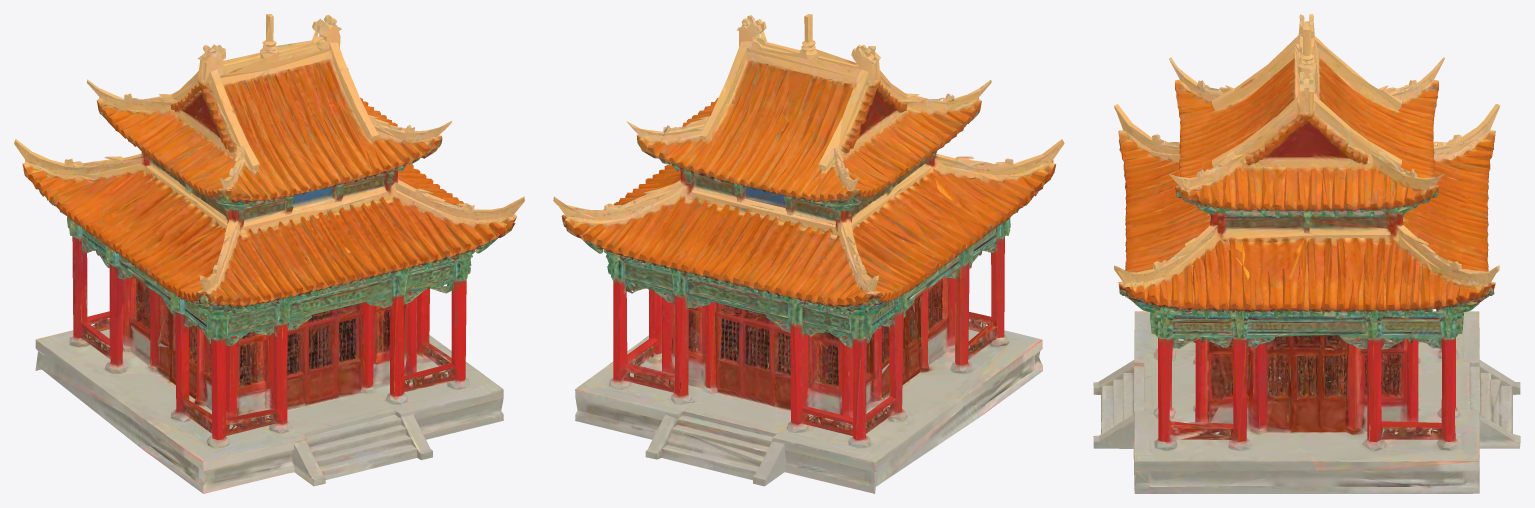
Rendered from lib_pavilion2.glb.
3 renders of one model, left to right at view 1: azimuth 30°, elevation 25°; view 2: azimuth 150°, elevation 25°; view 3: azimuth 270°, elevation 25°, orthographic. The views are drawn at different scales.
Parts seen in each view (by area): view 1: output_unwrapped; view 2: output_unwrapped; view 3: output_unwrapped.
Boxes of the visible parts, <box> form: output_unwrapped: <box>14,14,524,493</box>; output_unwrapped: <box>553,14,1064,493</box>; output_unwrapped: <box>1093,14,1520,493</box>.
Bounding box in the file's own units: 1.79 × 2 × 1.98.
1 material, 1 textured.
